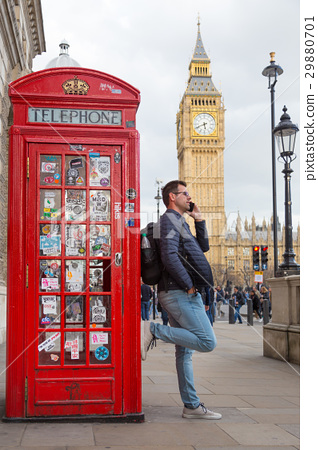phone: (185, 202, 200, 214)
